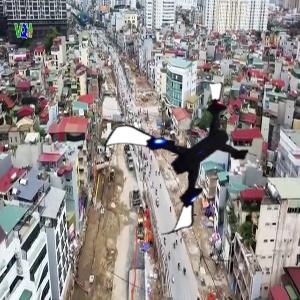drone: (118, 93, 258, 233)
